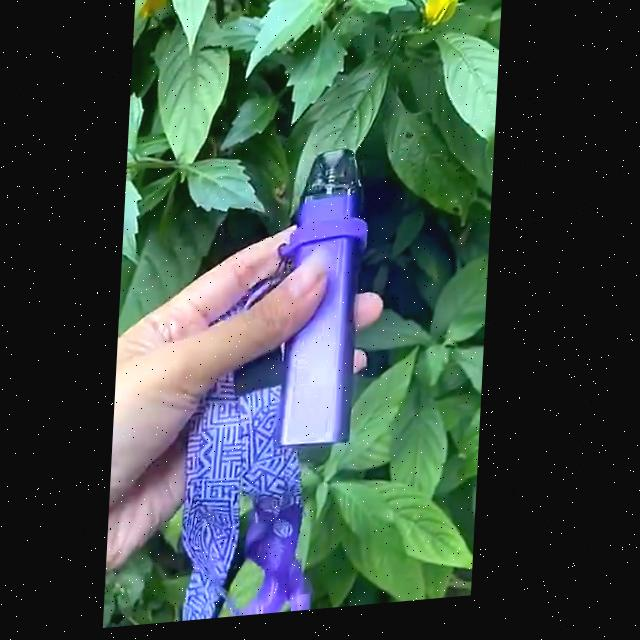vape: (279, 152, 377, 456)
